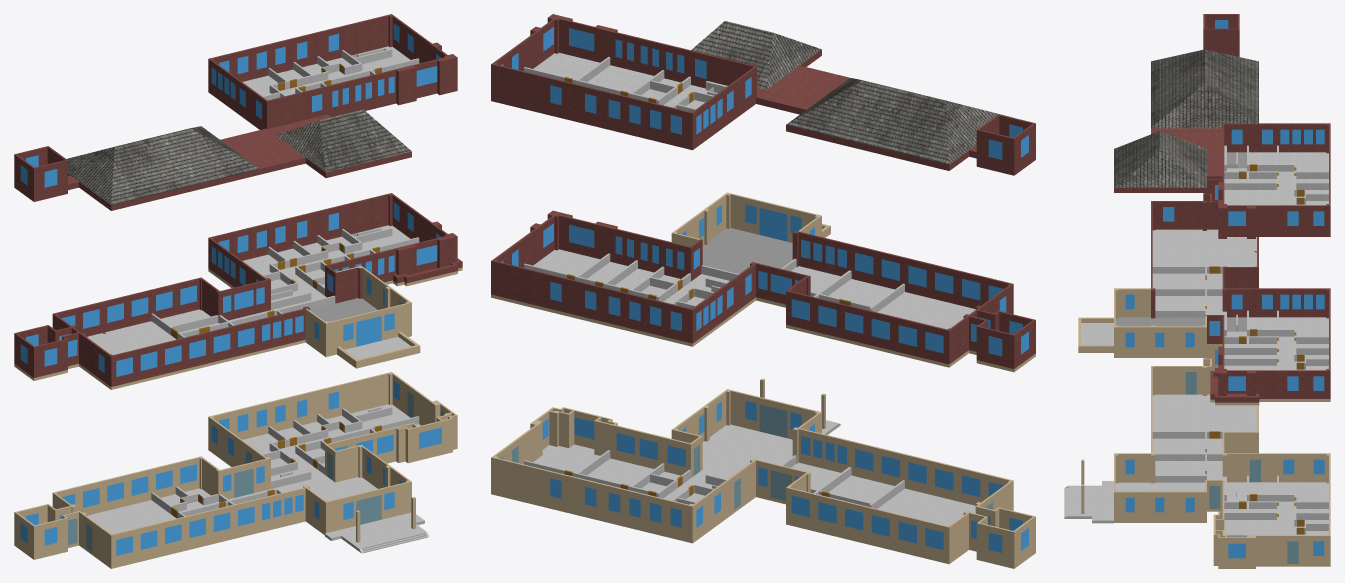
The model's file is Administration_Complex_expansion.glb.
3 renders of one model, left to right at view 1: azimuth 30°, elevation 25°; view 2: azimuth 150°, elevation 25°; view 3: azimuth 270°, elevation 25°, orthographic. The views are drawn at different scales.
Parts seen in each view (by area): view 1: Floor1, Floor2, Floor3; view 2: Floor1, Floor2, Floor3; view 3: Floor1, Floor2, Floor3.
Boxes of the visible parts, bbox=[...] form: Floor1: bbox=[14, 372, 457, 568]; Floor2: bbox=[14, 193, 462, 389]; Floor3: bbox=[14, 14, 457, 210]; Floor1: bbox=[491, 378, 1035, 568]; Floor2: bbox=[491, 192, 1035, 372]; Floor3: bbox=[491, 14, 1035, 175]; Floor1: bbox=[1064, 346, 1330, 568]; Floor2: bbox=[1078, 179, 1330, 405]; Floor3: bbox=[1114, 14, 1330, 238].
Bounding box in the file's own units: 62.55 × 54 × 36.
Materials: 8 (7 with a texture image).
